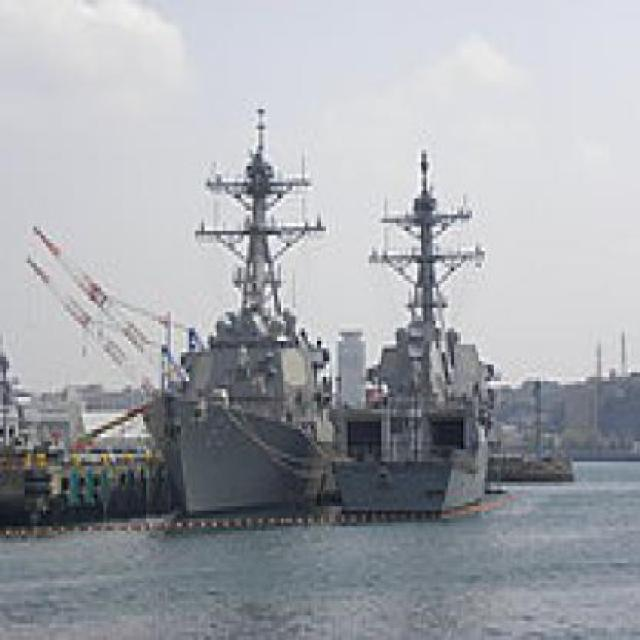warship2: (148, 82, 337, 533), (339, 111, 492, 540)
